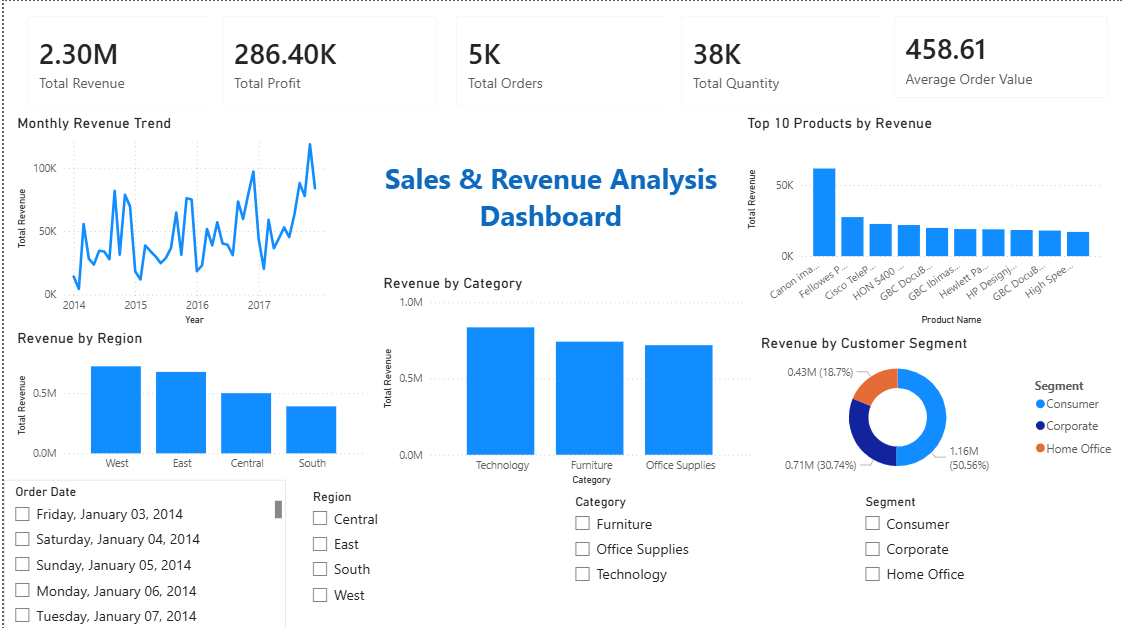

Layout of this report page (visuals, bound fields, positions):
{"tool":"powerbi","page":{"name":"Page 1","canvas":[1280,720],"ordinal":0},"visuals":[{"type":"cardVisual","fields":{"Data":["Superstore.Total Revenue"]},"box":[9.6,0,279.9,140],"z":0},{"type":"cardVisual","fields":{"Data":["Superstore.Total Orders"]},"box":[499.5,0,279.9,140],"z":1},{"type":"cardVisual","fields":{"Data":["Superstore.Total Profit"]},"box":[233.3,0,279.9,140],"z":2},{"type":"cardVisual","fields":{"Data":["Superstore.Total Quantity"]},"box":[757.5,0,279.9,140],"z":3},{"type":"cardVisual","fields":{"Data":["Superstore.Average Order Value"]},"box":[1000.3,0,279.9,129],"z":4},{"type":"lineChart","title":"Monthly Revenue Trend","fields":{"Y":["Superstore.Total Revenue"],"Category":["Superstore.Order Date.Variation.Date Hierarchy.Year","Superstore.Order Date.Variation.Date Hierarchy.Month"]},"box":[9.6,129,363.6,247],"z":5},{"type":"clusteredColumnChart","title":"Revenue by Category","fields":{"Category":["Superstore.Category"],"Y":["Superstore.Total Revenue"]},"box":[428.6,311.4,431.4,247.1],"z":6},{"type":"clusteredColumnChart","title":"Top 10 Products by Revenue","fields":{"Y":["Superstore.Total Revenue"],"Category":["Superstore.Product Name"]},"box":[843.9,129,414.4,247],"z":7},{"type":"clusteredColumnChart","title":"Revenue by Region","fields":{"Category":["Superstore.Region"],"Y":["Superstore.Total Revenue"]},"box":[10,374.3,407.1,172.9],"z":8},{"type":"donutChart","title":"Revenue by Customer Segment","fields":{"Category":["Superstore.Segment"],"Y":["Superstore.Total Revenue"]},"box":[860,380,420,172.9],"z":9},{"type":"slicer","fields":{"Values":["Superstore.Order Date"]},"box":[0,547.1,322.9,172.9],"z":10},{"type":"slicer","fields":{"Values":["Superstore.Region"]},"box":[340,552.9,291.4,161.4],"z":11},{"type":"slicer","fields":{"Values":["Superstore.Category"]},"box":[640,558.6,300,161.4],"z":12},{"type":"slicer","fields":{"Values":["Superstore.Segment"]},"box":[971.4,558.6,308.6,161.4],"z":13},{"type":"textbox","box":[417.1,175.7,415.7,112.9],"z":14}]}

Visuals, with their boxes in screenshot pixels (x1, y1, x2, y2), scaled from the page's 1280x720 canvas onto the 1122x628 screenshot:
cardVisual - Superstore.Total Revenue: x1=8 y1=0 x2=254 y2=122
cardVisual - Superstore.Total Orders: x1=438 y1=0 x2=683 y2=122
cardVisual - Superstore.Total Profit: x1=205 y1=0 x2=450 y2=122
cardVisual - Superstore.Total Quantity: x1=664 y1=0 x2=909 y2=122
cardVisual - Superstore.Average Order Value: x1=877 y1=0 x2=1121 y2=113
"Monthly Revenue Trend" lineChart: x1=8 y1=113 x2=327 y2=328
"Revenue by Category" clusteredColumnChart: x1=376 y1=272 x2=754 y2=487
"Top 10 Products by Revenue" clusteredColumnChart: x1=740 y1=113 x2=1103 y2=328
"Revenue by Region" clusteredColumnChart: x1=9 y1=326 x2=366 y2=477
"Revenue by Customer Segment" donutChart: x1=754 y1=331 x2=1121 y2=482
slicer - Superstore.Order Date: x1=0 y1=477 x2=283 y2=627
slicer - Superstore.Region: x1=298 y1=482 x2=553 y2=623
slicer - Superstore.Category: x1=561 y1=487 x2=824 y2=627
slicer - Superstore.Segment: x1=851 y1=487 x2=1121 y2=627
textbox: x1=366 y1=153 x2=730 y2=252
